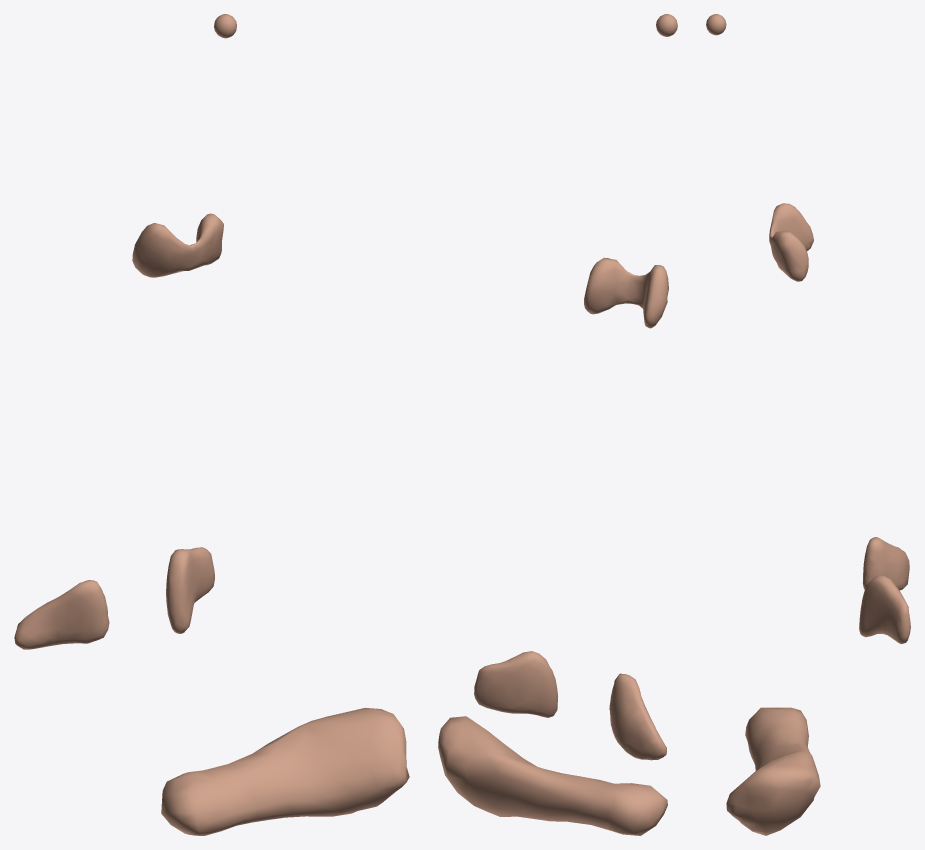
The model's file is pediatric_infant_male.endocrine.LOD0.glb.
3 views of the same model, side by side, from view 1: azimuth 30°, elevation 25°; view 2: azimuth 150°, elevation 25°; view 3: azimuth 270°, elevation 25° (orthographic). The views are drawn at different scales.
Visible parts, largest first — view 1: PEDIATRIC.INFANT.MALE.ENDOCRINE.PANCREAS, PEDIATRIC.INFANT.MALE.ENDOCRINE.ADRENAL.R, PEDIATRIC.INFANT.MALE.ENDOCRINE.THYROID, PEDIATRIC.INFANT.MALE.ENDOCRINE.ADRENAL.L; view 2: PEDIATRIC.INFANT.MALE.ENDOCRINE.PANCREAS, PEDIATRIC.INFANT.MALE.ENDOCRINE.ADRENAL.L, PEDIATRIC.INFANT.MALE.ENDOCRINE.THYROID, PEDIATRIC.INFANT.MALE.ENDOCRINE.ADRENAL.R; view 3: PEDIATRIC.INFANT.MALE.ENDOCRINE.PANCREAS, PEDIATRIC.INFANT.MALE.ENDOCRINE.ADRENAL.L, PEDIATRIC.INFANT.MALE.ENDOCRINE.THYROID, PEDIATRIC.INFANT.MALE.ENDOCRINE.ADRENAL.R.
Part boxes in pixels (<box>): PEDIATRIC.INFANT.MALE.ENDOCRINE.PANCREAS: <box>161,707,409,835</box>; PEDIATRIC.INFANT.MALE.ENDOCRINE.ADRENAL.R: <box>14,580,109,649</box>; PEDIATRIC.INFANT.MALE.ENDOCRINE.THYROID: <box>132,213,223,277</box>; PEDIATRIC.INFANT.MALE.ENDOCRINE.ADRENAL.L: <box>166,547,214,633</box>; PEDIATRIC.INFANT.MALE.ENDOCRINE.PANCREAS: <box>438,716,667,835</box>; PEDIATRIC.INFANT.MALE.ENDOCRINE.ADRENAL.L: <box>474,651,557,717</box>; PEDIATRIC.INFANT.MALE.ENDOCRINE.THYROID: <box>584,257,668,328</box>; PEDIATRIC.INFANT.MALE.ENDOCRINE.ADRENAL.R: <box>609,673,666,760</box>; PEDIATRIC.INFANT.MALE.ENDOCRINE.PANCREAS: <box>726,707,820,835</box>; PEDIATRIC.INFANT.MALE.ENDOCRINE.ADRENAL.L: <box>859,575,910,643</box>; PEDIATRIC.INFANT.MALE.ENDOCRINE.THYROID: <box>769,203,813,281</box>; PEDIATRIC.INFANT.MALE.ENDOCRINE.ADRENAL.R: <box>862,537,909,590</box>.
Size of the model in its own units: 0.1013 by 0.2686 by 0.0665.
